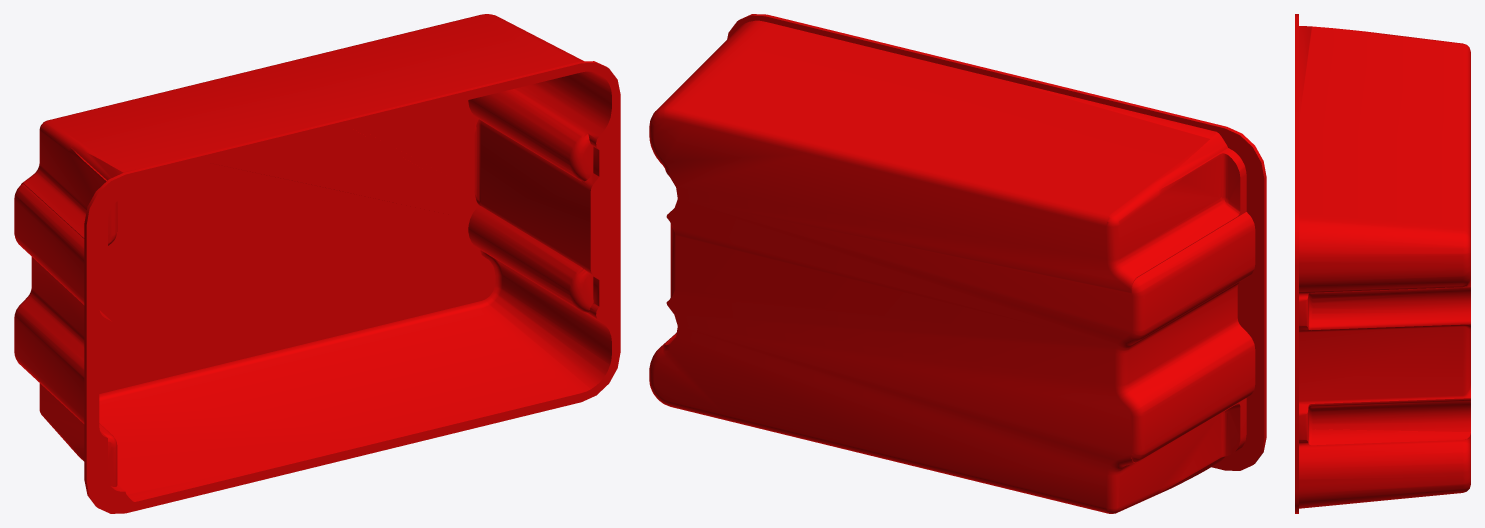
File: tote.glb
3 renders of one model, left to right at view 1: azimuth 30°, elevation 25°; view 2: azimuth 150°, elevation 25°; view 3: azimuth 270°, elevation 25°, orthographic. The views are drawn at different scales.
Visible parts, largest first — view 1: Tote; view 2: Tote; view 3: Tote.
Part boxes in pixels (box(x1,y1,x2,y2)): Tote: box(14, 14, 620, 513); Tote: box(649, 14, 1266, 513); Tote: box(1295, 14, 1470, 513).
Bounding box in the file's own units: 0.615 × 0.373 × 0.2.
